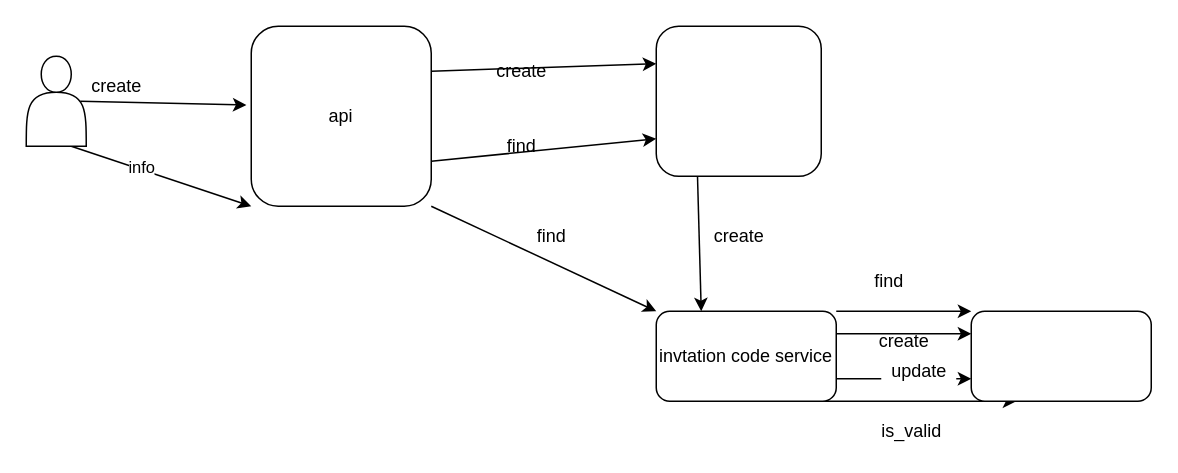
Some shapes in this 1178 by 473 pixel diagram are drawn without their labels. The shapes that lost their labels are listed below. From the top down, each one's centre as x and y in pixels, then its label:
At point (738, 100): "user service".
At point (1060, 355): "db".
